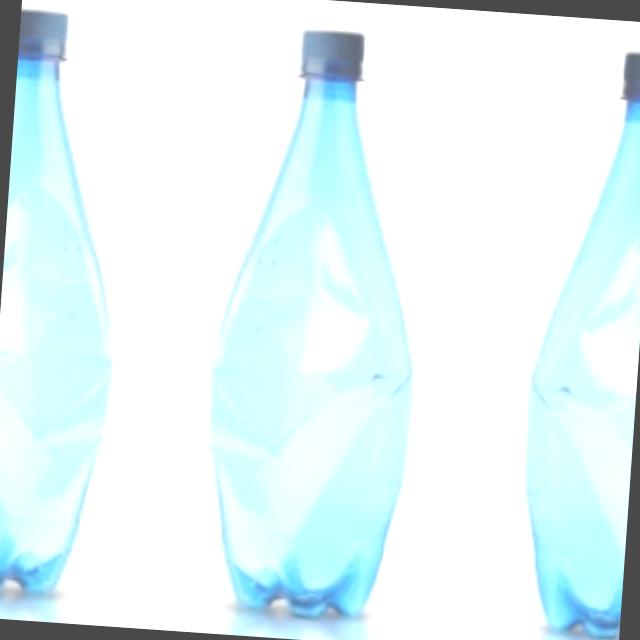Plastic: (182, 2, 457, 640), (490, 23, 640, 640), (0, 0, 146, 623)
